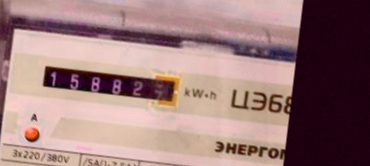1: (48, 70, 59, 87)
2: (131, 79, 143, 97)
5: (69, 72, 80, 89)
7: (153, 89, 163, 101)
8: (110, 77, 122, 96), (89, 76, 101, 93)
screen: (34, 57, 186, 113)
